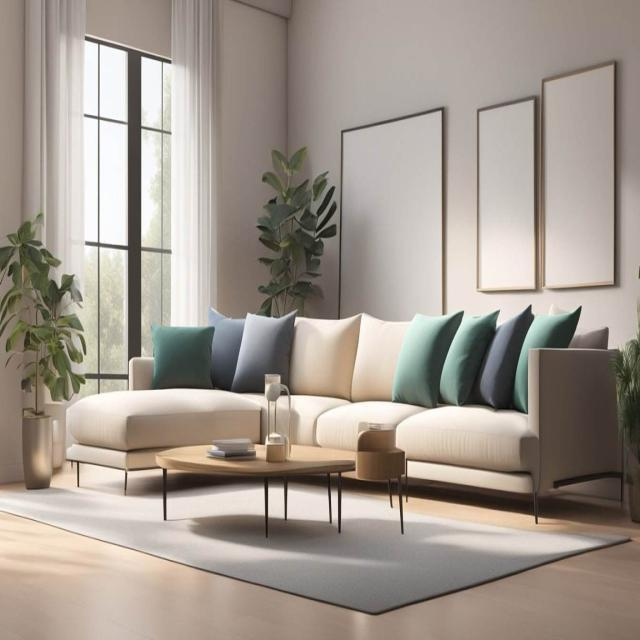sofa: (65, 306, 625, 524)
